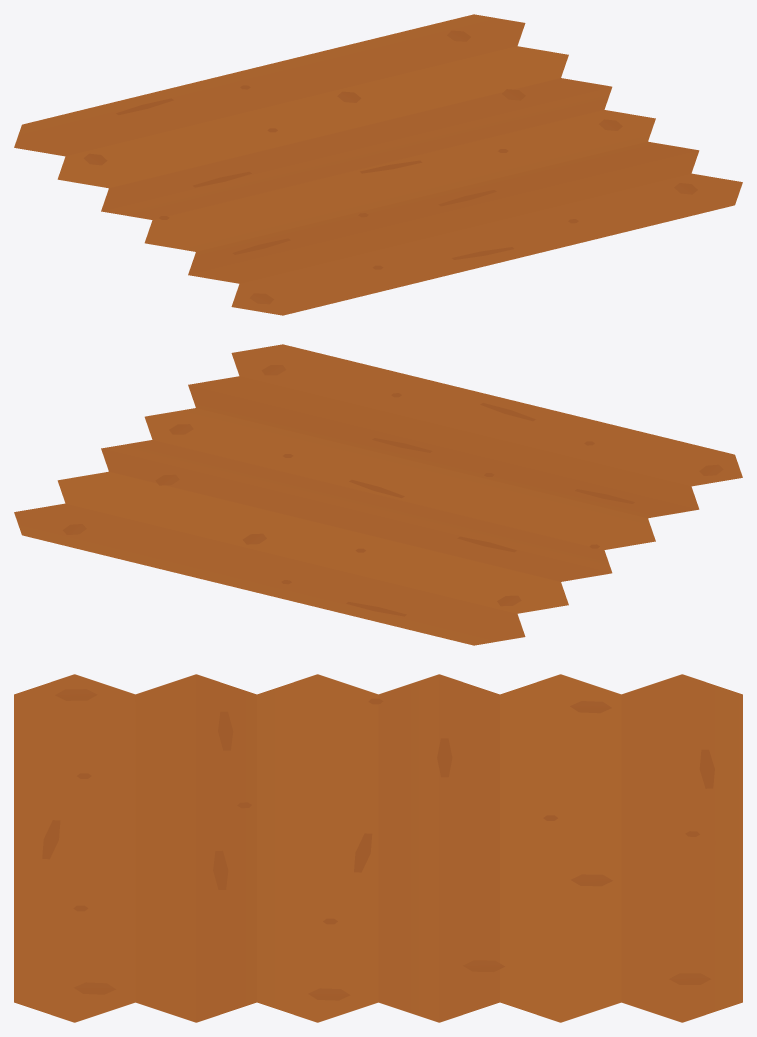
File: soil.glb
The picture shows the model from 3 angles, top to bottom: view 1: azimuth 30°, elevation 25°; view 2: azimuth 150°, elevation 25°; view 3: azimuth 270°, elevation 25°; orthographic projection. The views are drawn at different scales.
Visible parts, largest first — view 1: soil; view 2: soil; view 3: soil.
Part boxes in pixels (<box>): soil: <box>14,14,742,315</box>; soil: <box>14,344,742,645</box>; soil: <box>14,674,742,1022</box>.
Size of the model in its own units: 2.26 by 0.001 by 2.
Materials: 1 (1 with a texture image).
